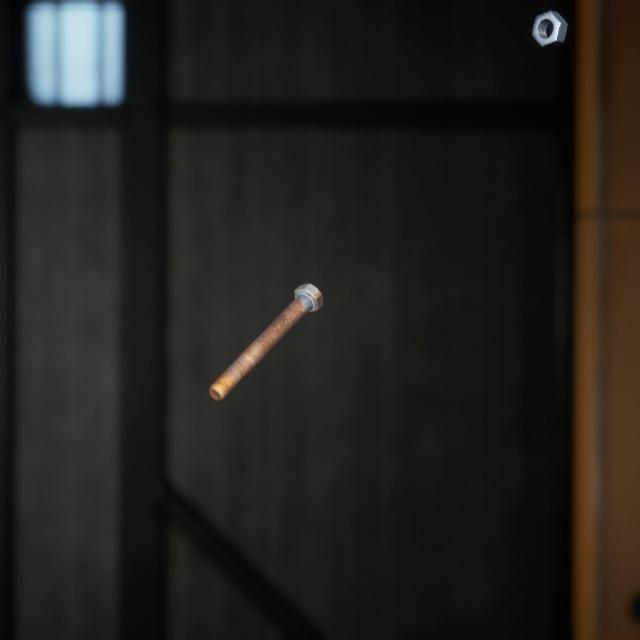bolt: (204, 260, 327, 385)
nut: (527, 0, 572, 44)
